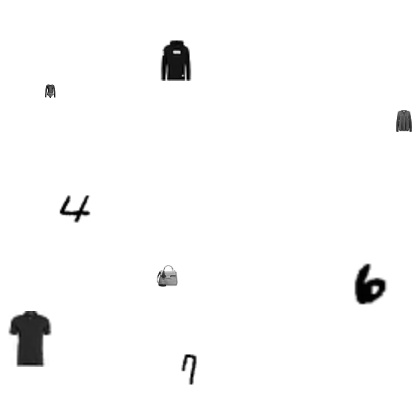4: (54, 188, 96, 230)
6: (339, 258, 395, 314)
7: (168, 344, 210, 386)
Bag: (156, 265, 178, 287)
Pullover: (155, 39, 197, 81)
Shirt: (393, 110, 415, 132), (43, 84, 57, 98)
T-shirt/top: (1, 311, 57, 367)
